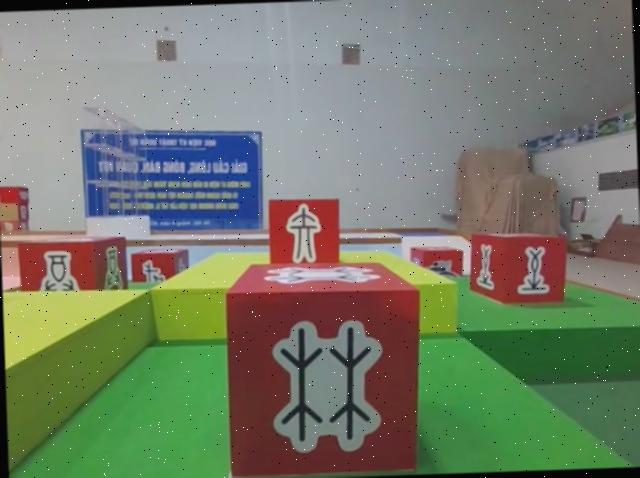R1: (409, 244, 465, 284)
R2 Fake: (265, 194, 343, 271)
R2 Real: (217, 253, 431, 478), (466, 229, 571, 312), (16, 233, 130, 306), (129, 244, 190, 293)
